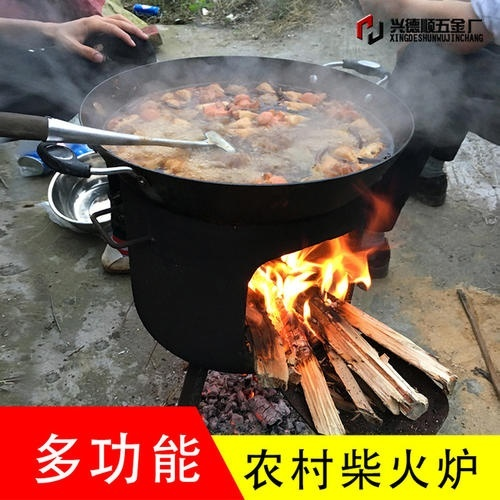fire: (249, 232, 375, 330)
